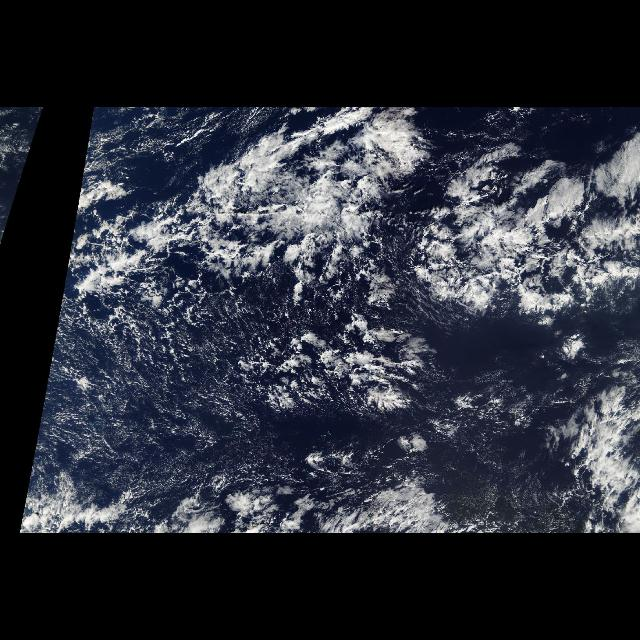Gravel: (56, 115, 432, 415), (433, 133, 629, 321)
Sugar: (35, 292, 273, 503)
